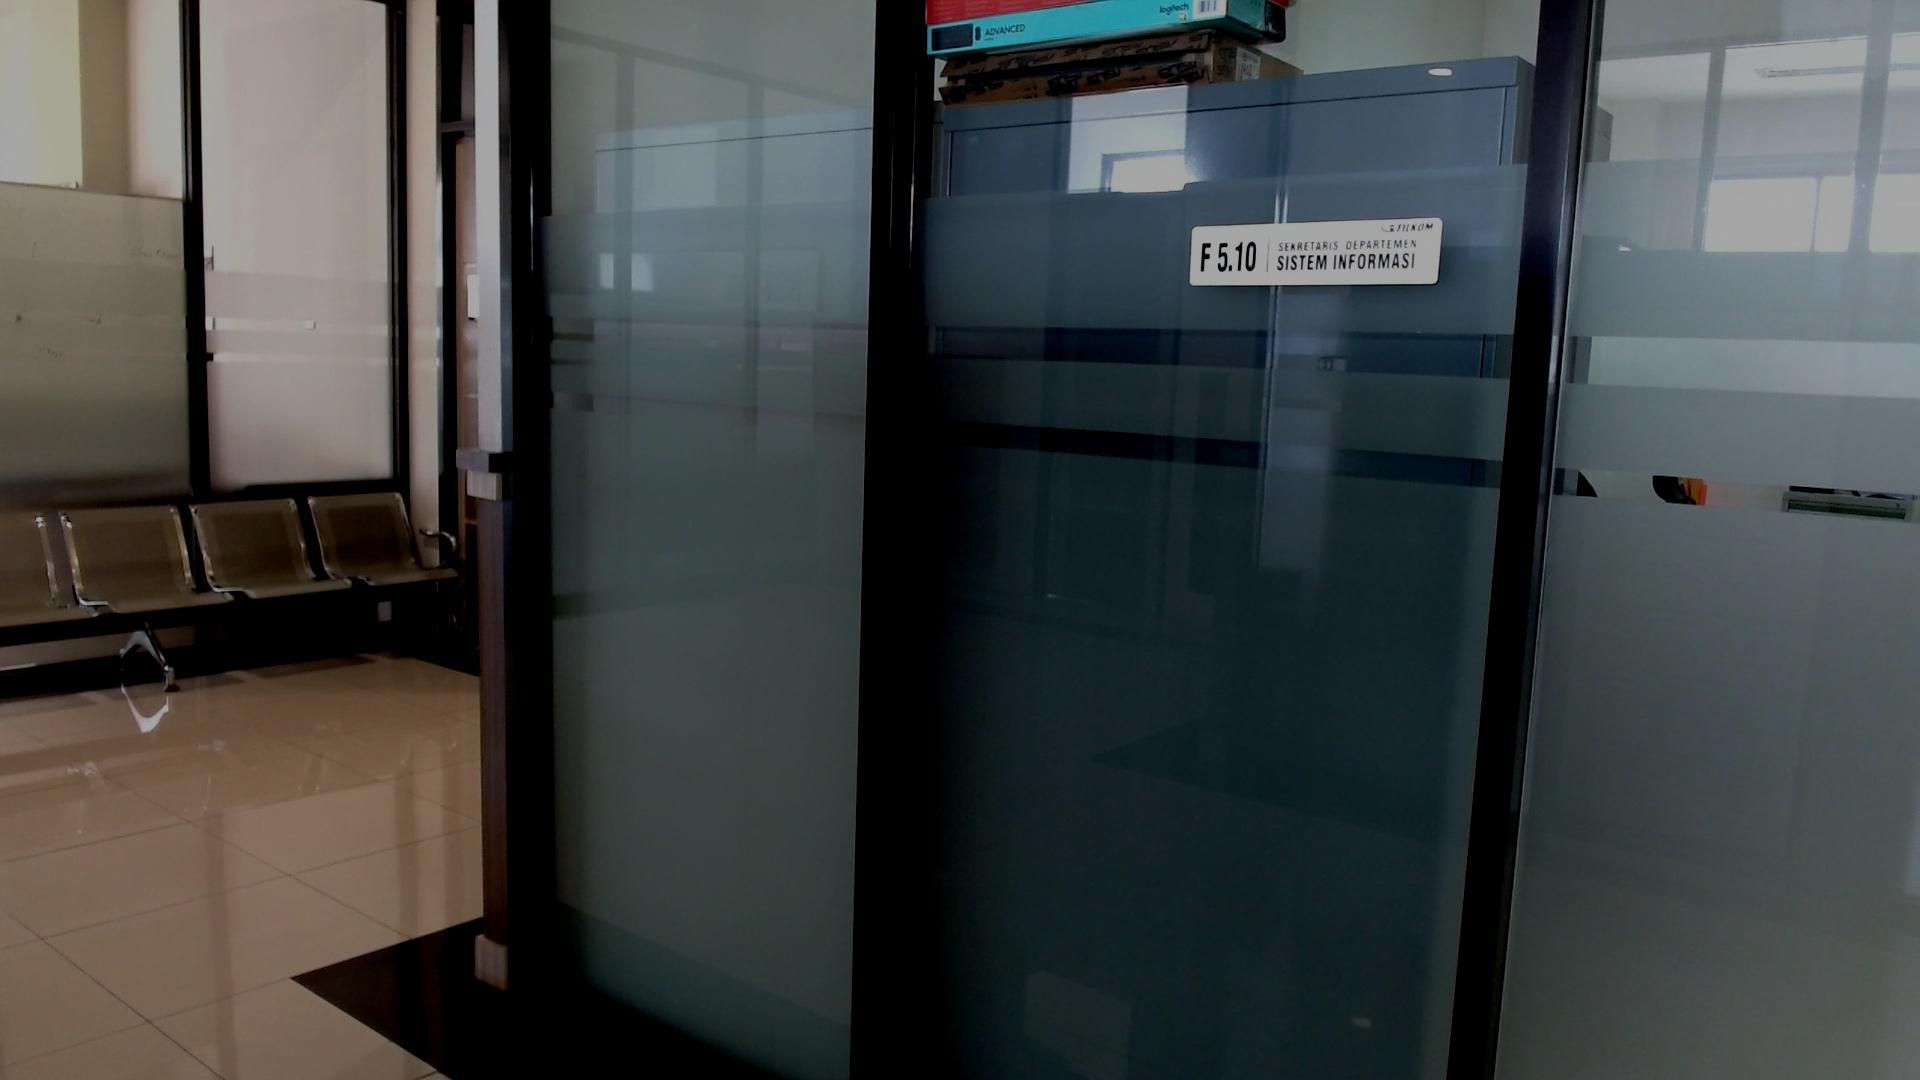plate: (1189, 218, 1445, 286)
